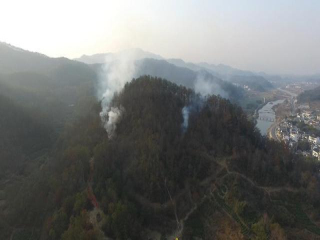smoke: (93, 57, 145, 141), (181, 73, 227, 139)
